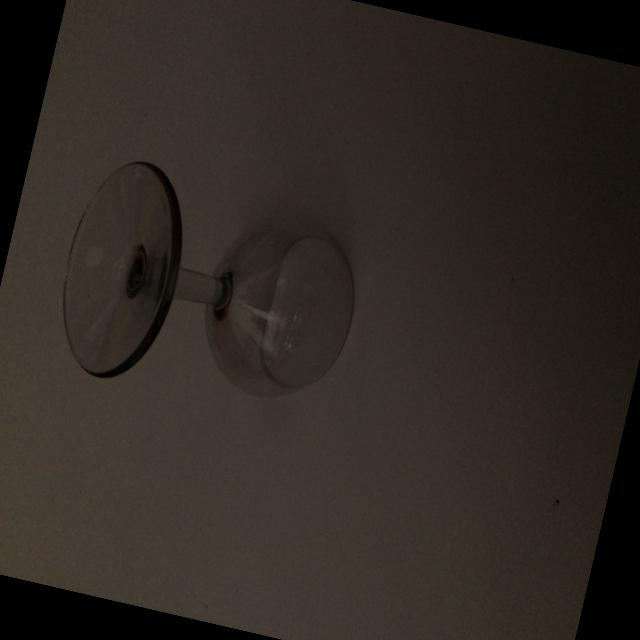Glass: (34, 141, 385, 440)
